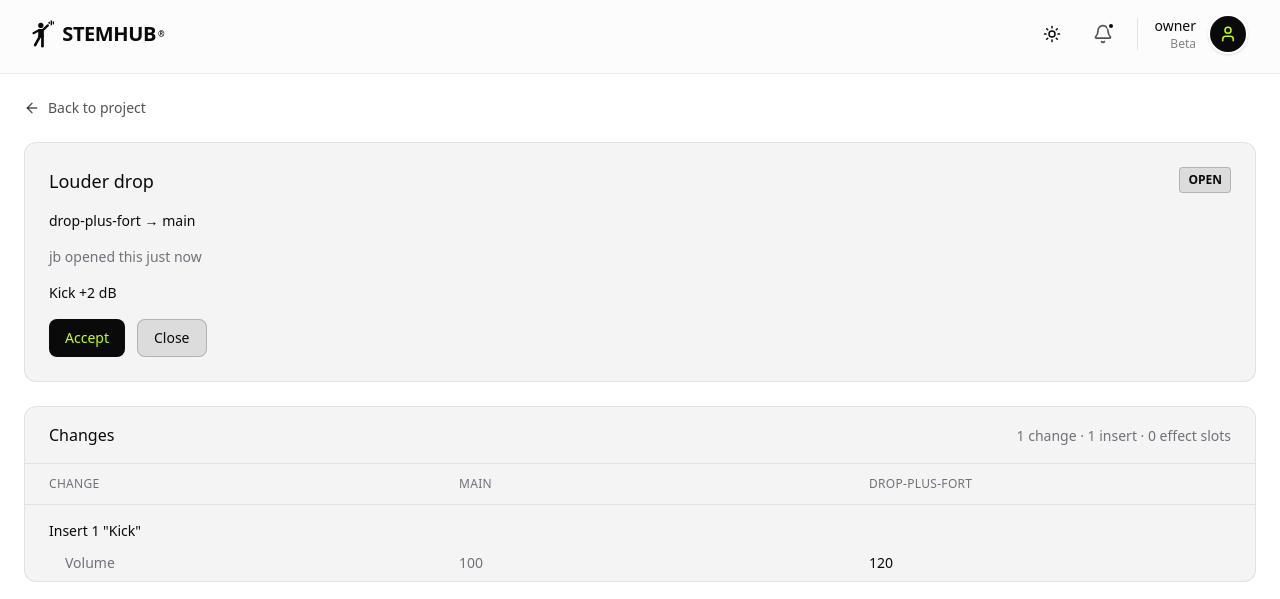
it: PullRequestPage › reloads the pull request when someone else already closed it
Click the button "Accept".
click(87, 338)  # box left=49, top=319, right=125, bottom=357
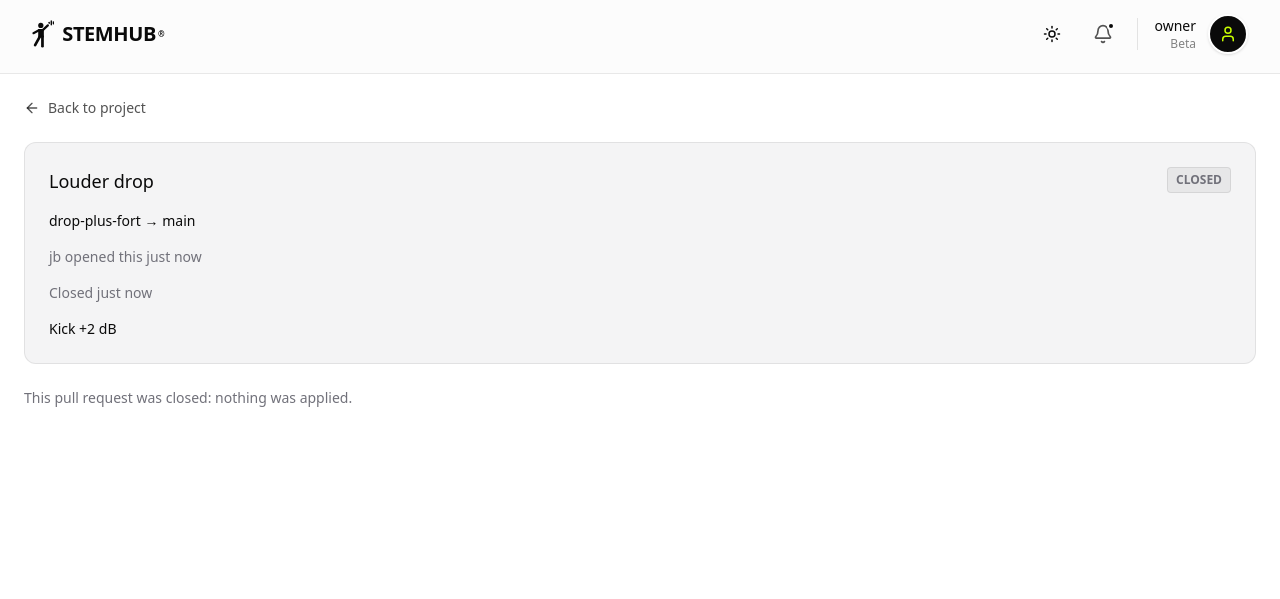
Now the text "CLOSED" is shown, box left=1167, top=167, right=1231, bottom=193
Now the button "Accept" is gone
